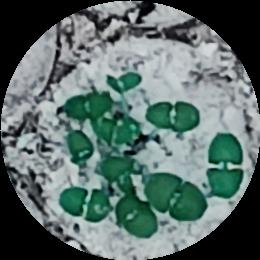Basil: (146, 171, 206, 219), (209, 132, 243, 201), (60, 189, 113, 224), (151, 99, 204, 125), (118, 202, 155, 236), (108, 159, 144, 193), (67, 94, 108, 123), (65, 130, 91, 163), (111, 69, 141, 90)
